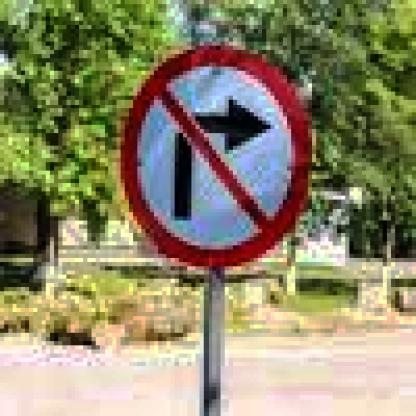No right turn: (112, 51, 324, 270)
